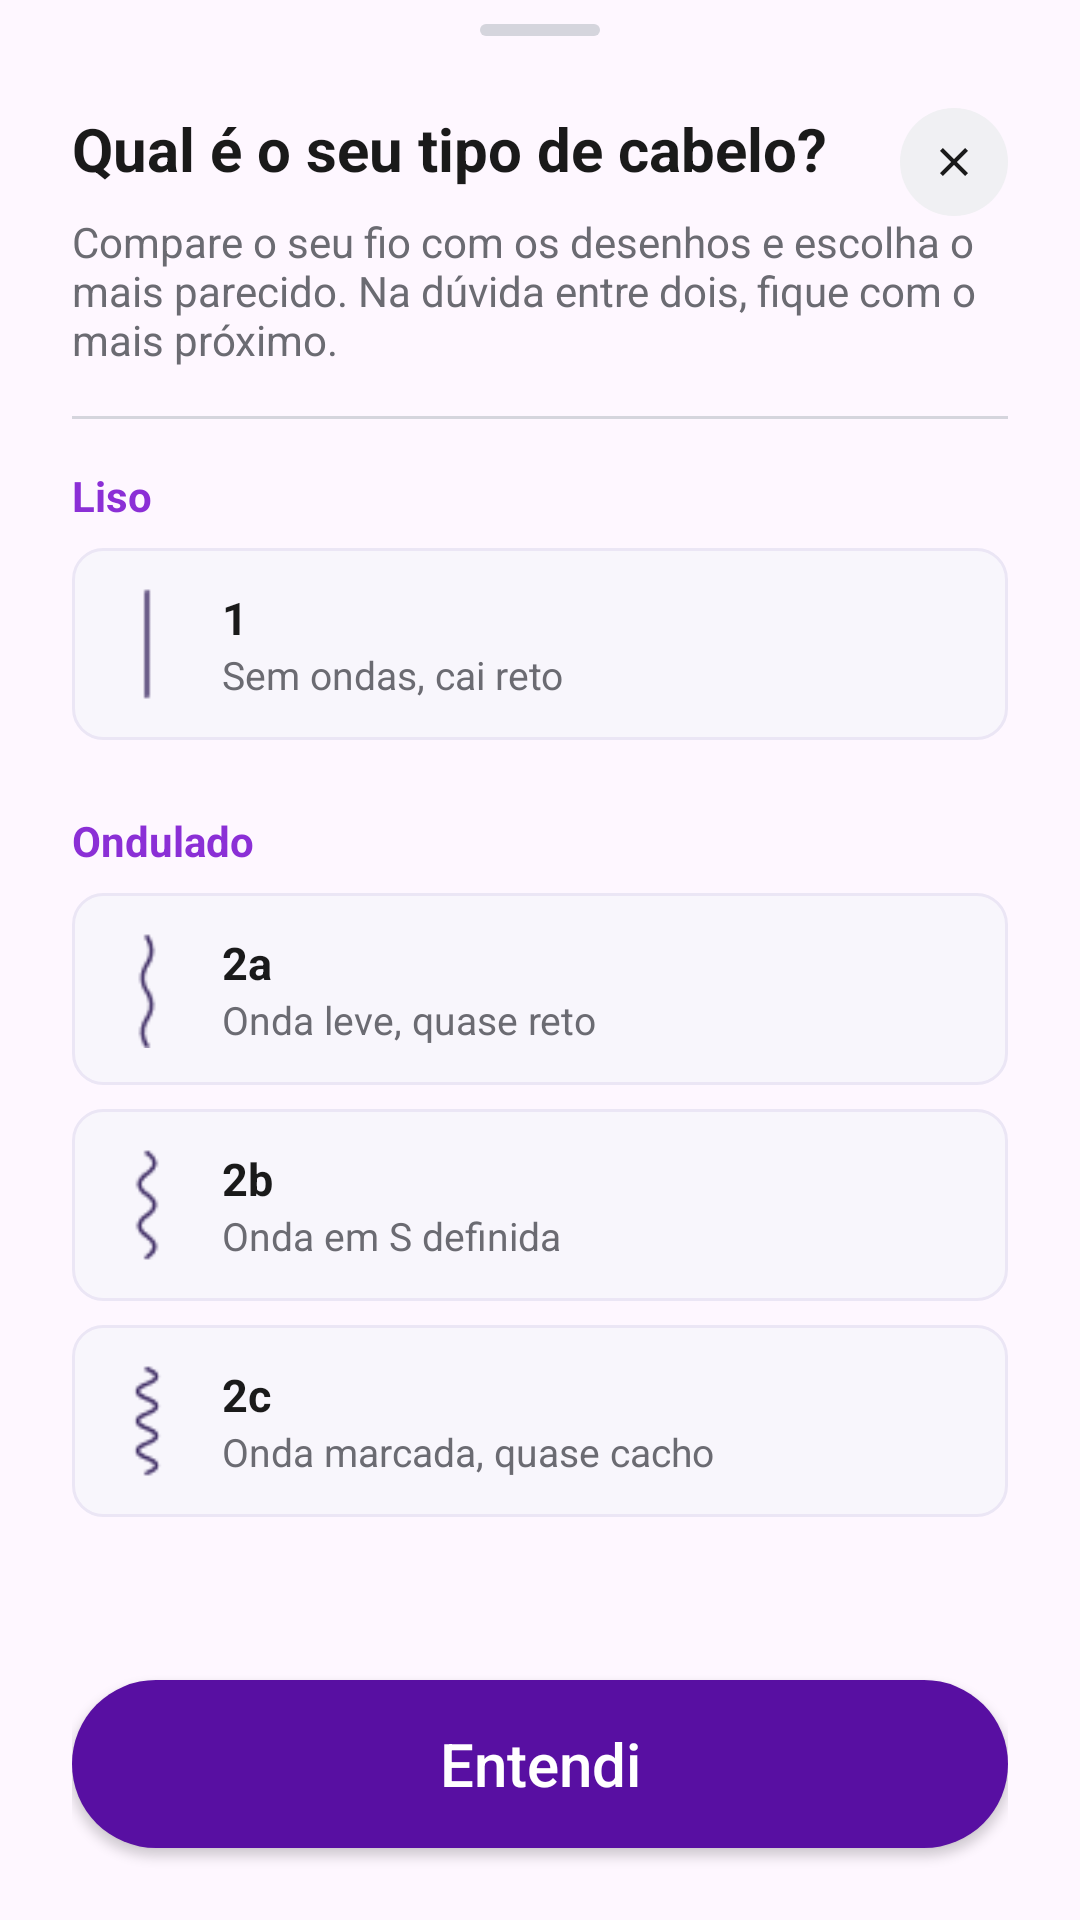

Screen size 1080 × 1920. Icon name, then its center in pixels as (x,y):
Fechar: (954,162)
fio 2b: (147,1205)
fio 2c: (147,1421)
